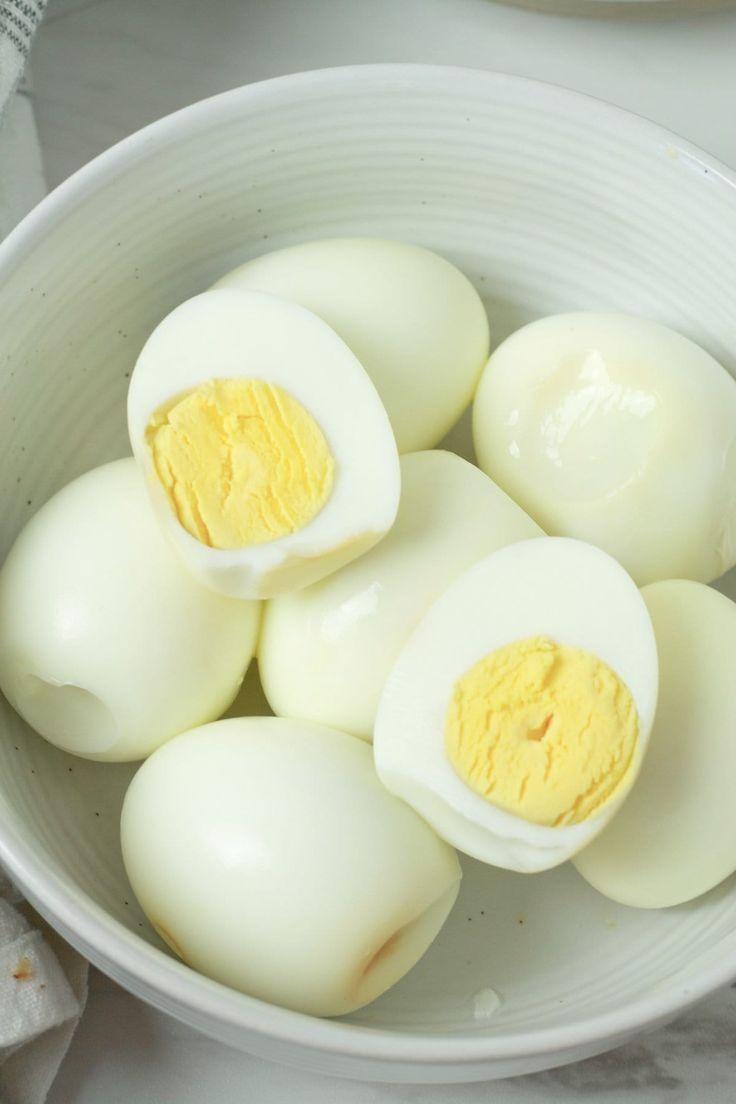eggs: (0, 246, 736, 1012)
